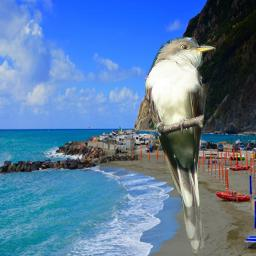Cuckoo: (145, 36, 216, 255)
